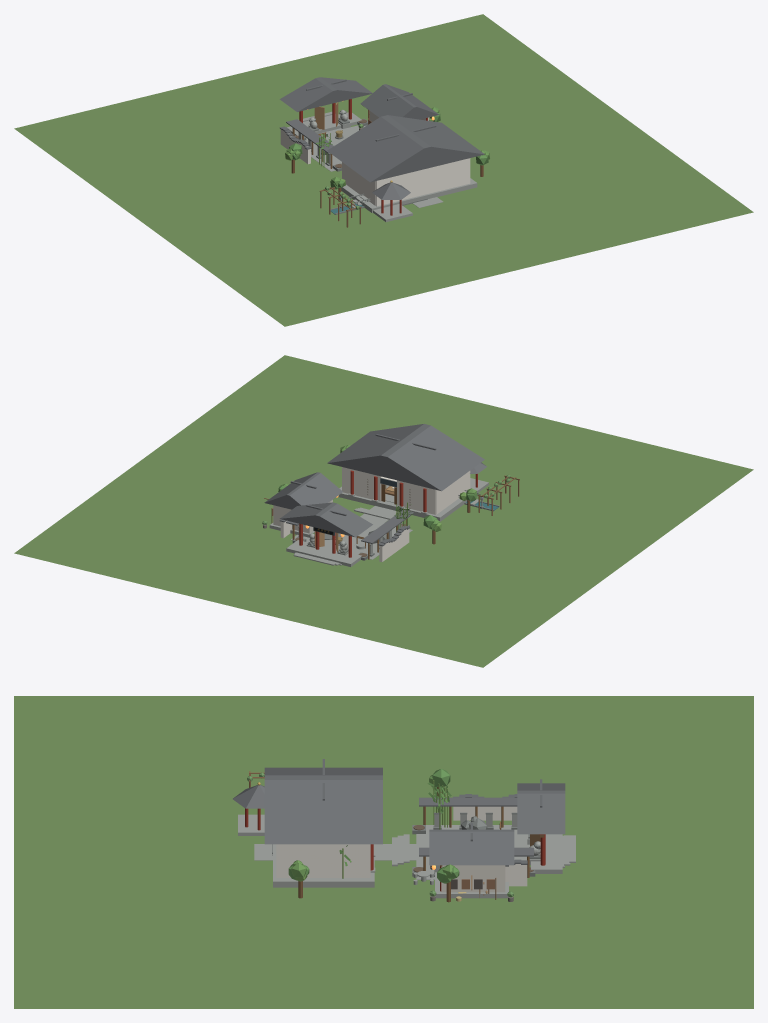
File: aotai_academy.glb
The picture shows the model from 3 angles, top to bottom: view 1: azimuth 30°, elevation 25°; view 2: azimuth 150°, elevation 25°; view 3: azimuth 270°, elevation 25°; orthographic projection. The views are drawn at different scales.
Parts seen in each view (by area): view 1: AotaiAcademy; view 2: AotaiAcademy; view 3: AotaiAcademy.
Part boxes in pixels (<box>): AotaiAcademy: <box>14,14,753,326</box>; AotaiAcademy: <box>14,355,753,667</box>; AotaiAcademy: <box>14,696,753,1008</box>.
Bounding box in the file's own units: 80 × 9.22 × 80.
50 materials, 4 textured.
